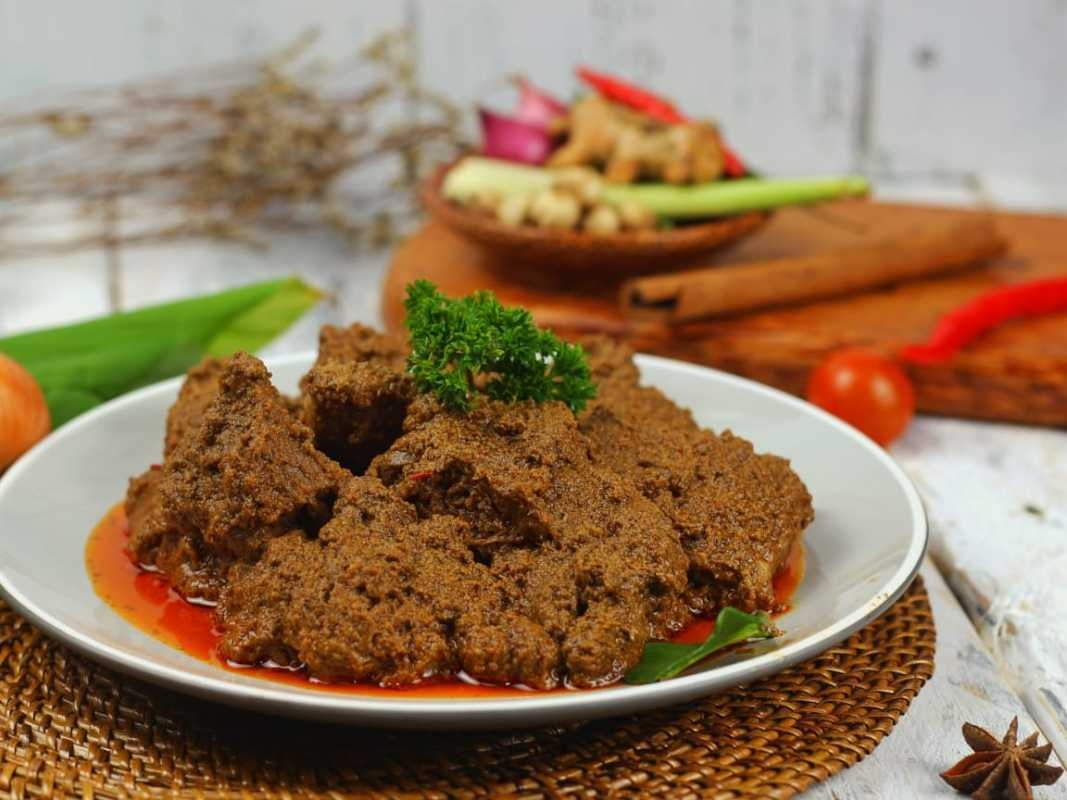rendang: (107, 366, 802, 689)
